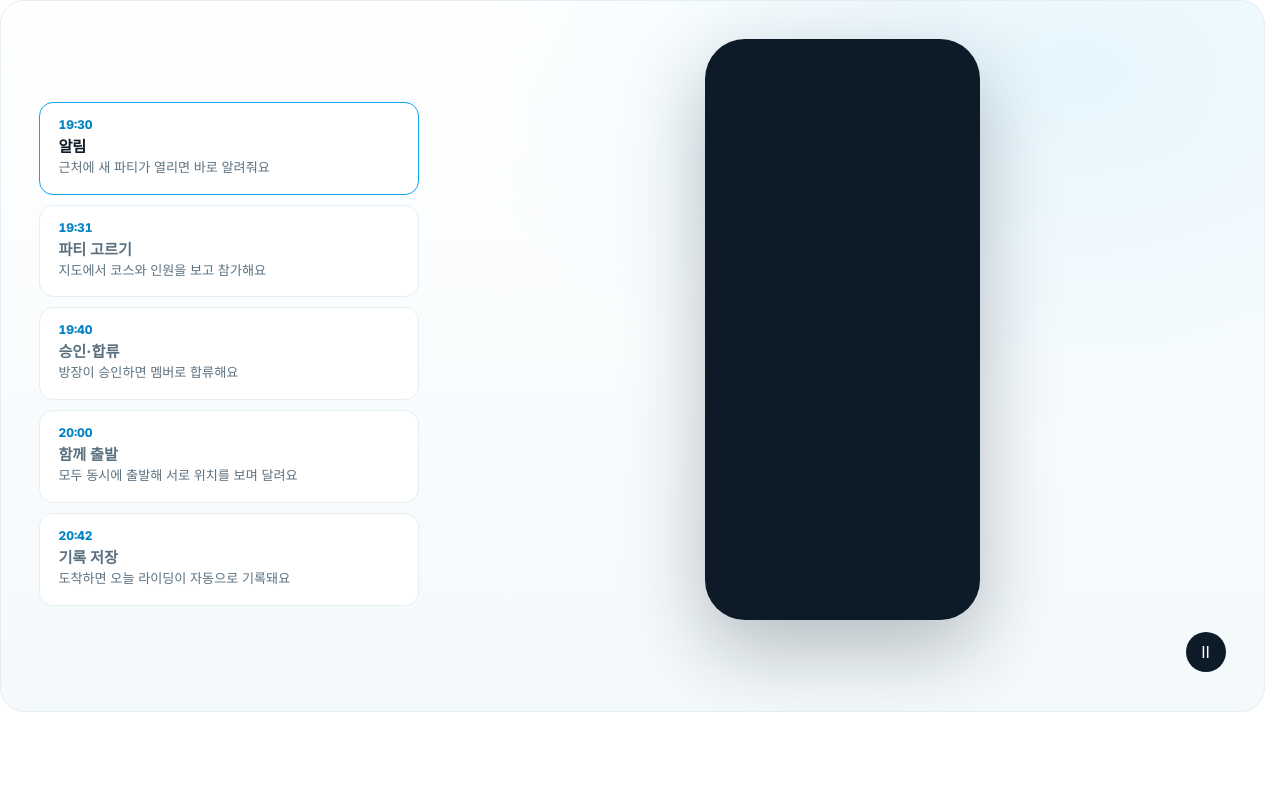
Test: 단계 자막을 누르면 그 단계로 이동한다
Click the button "20:42 기록 저장 도착하면 오늘 라이딩이 자동으로 기록돼요". click: point(76, 535)
box: [39,513,419,606]
Wait 600 ms
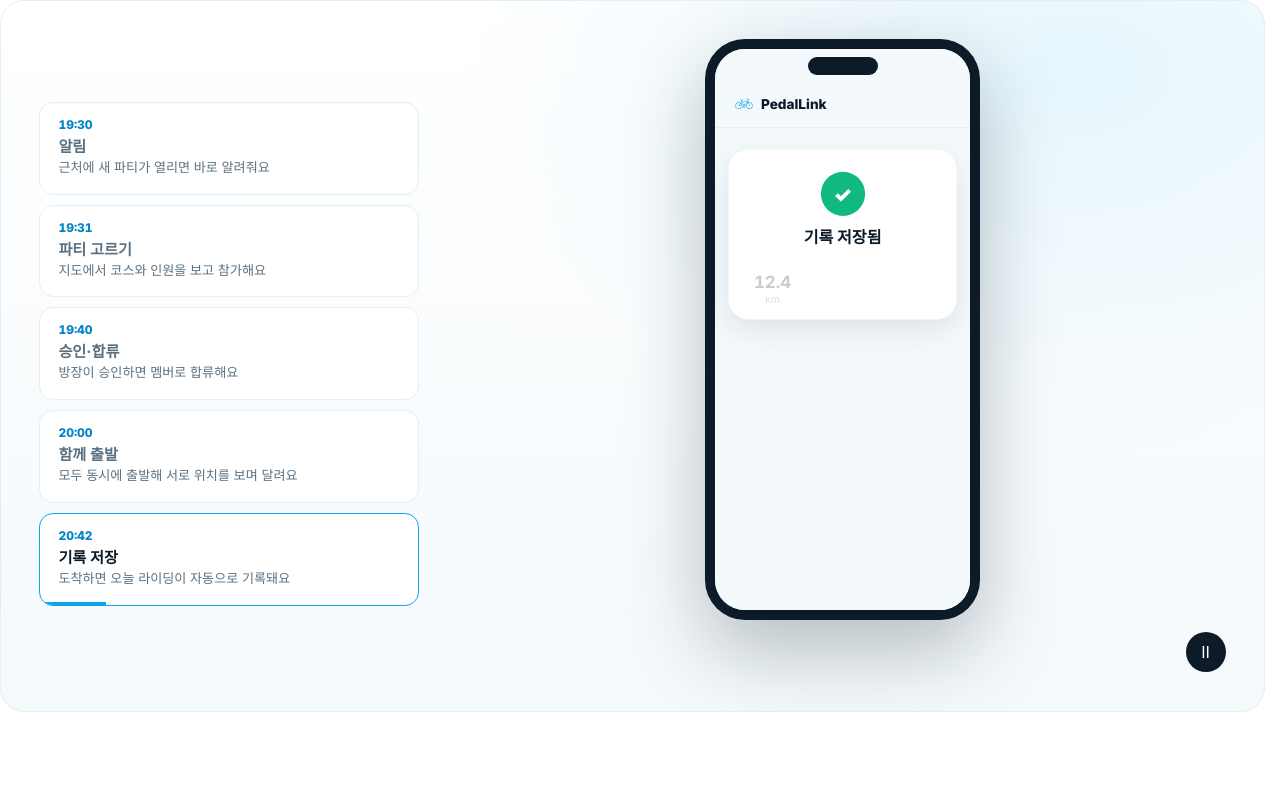
Expected: the text "기록 저장됨" is shown, [804,224,881,248]
